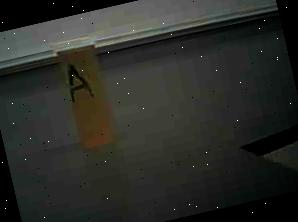Bottle A: (43, 22, 139, 168)
